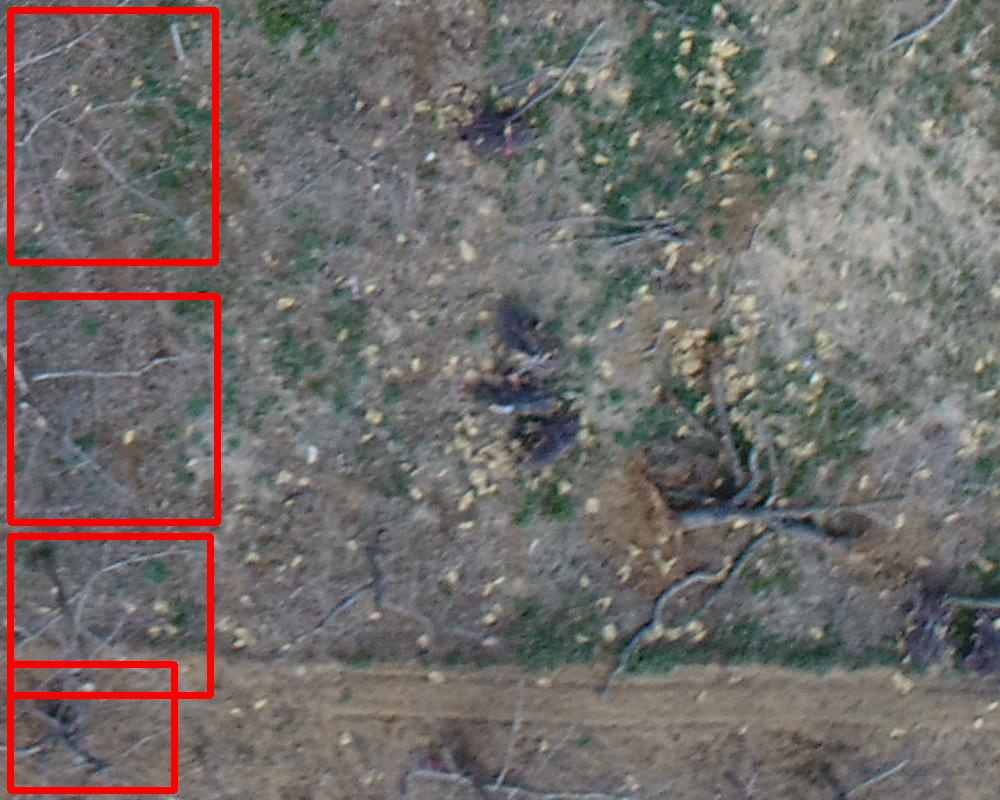apple: (10, 10, 215, 262), (10, 296, 217, 522), (10, 536, 210, 695), (10, 664, 174, 790)
